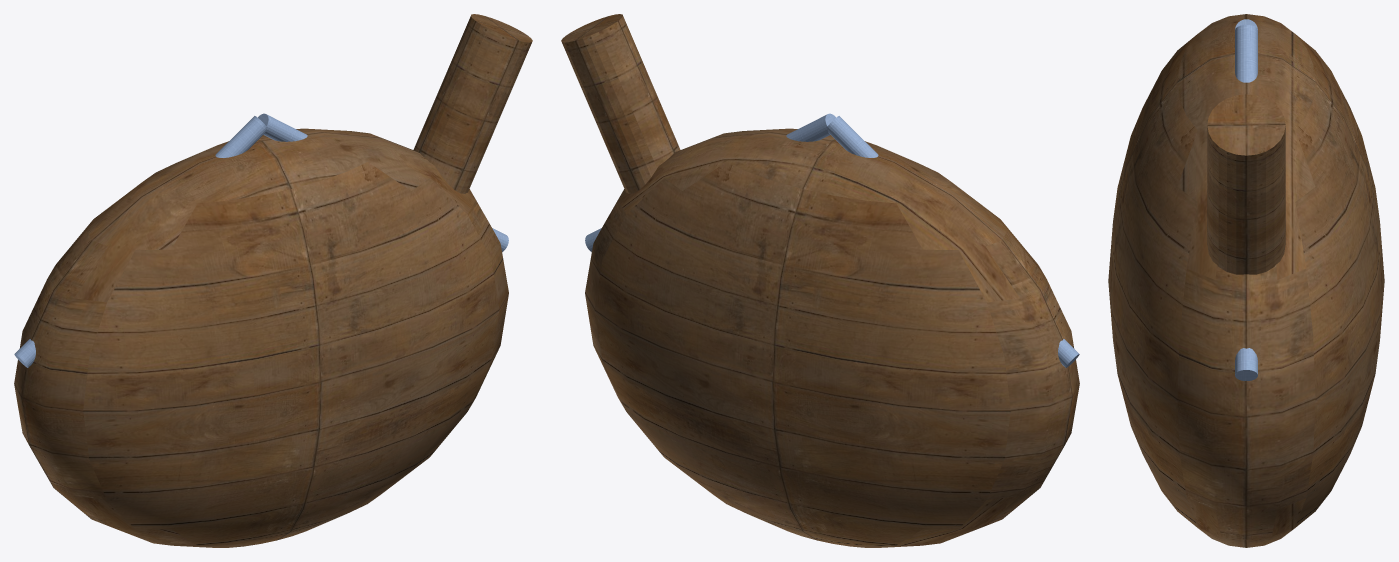
File: odres.glb
The picture shows the model from 3 angles, left to right: view 1: azimuth 30°, elevation 25°; view 2: azimuth 150°, elevation 25°; view 3: azimuth 270°, elevation 25°; orthographic projection. The views are drawn at different scales.
Visible parts, largest first — view 1: Corpo flexível, Gargalo, Correia, Correia.001; view 2: Corpo flexível, Gargalo, Correia, Correia.001; view 3: Corpo flexível, Gargalo, Correia.001.
Part boxes in pixels (x1,y1,x2,y2): Corpo flexível: [14, 128, 508, 547]; Gargalo: [413, 14, 532, 193]; Correia: [14, 116, 266, 367]; Correia.001: [258, 113, 508, 251]; Corpo flexível: [585, 128, 1079, 547]; Gargalo: [561, 14, 680, 193]; Correia: [827, 116, 1079, 367]; Correia.001: [585, 113, 835, 251]; Corpo flexível: [1108, 14, 1384, 547]; Gargalo: [1207, 94, 1285, 274]; Correia.001: [1235, 25, 1257, 380].
Size of the model in its own units: 1.49 by 1.29 by 0.6.
Materials: 2 (2 with a texture image).
